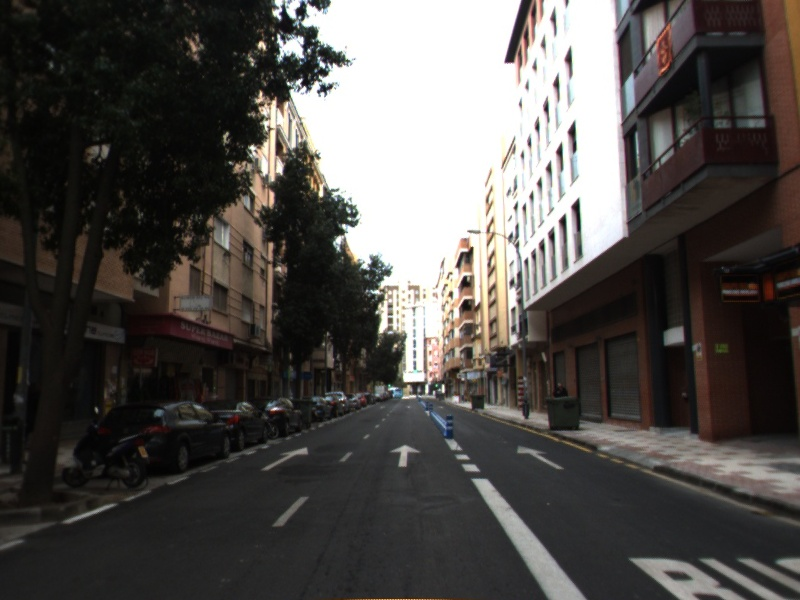STRAIGHT: (515, 444, 567, 471), (259, 446, 311, 473), (387, 443, 423, 469)
